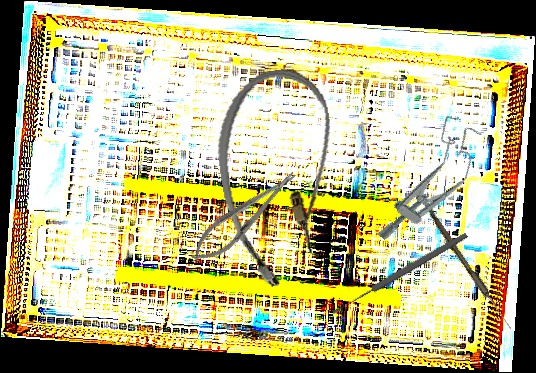Cannula: (206, 63, 354, 292)
Needle Holder: (183, 162, 305, 272)
Speculum: (367, 110, 494, 259)
Surgical Spoon: (416, 194, 515, 332), (330, 230, 469, 317)
